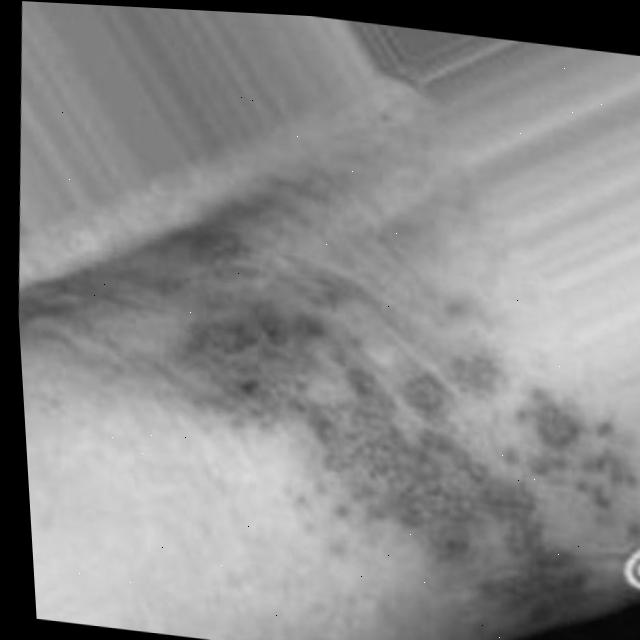Shingles: (204, 296, 596, 583)
